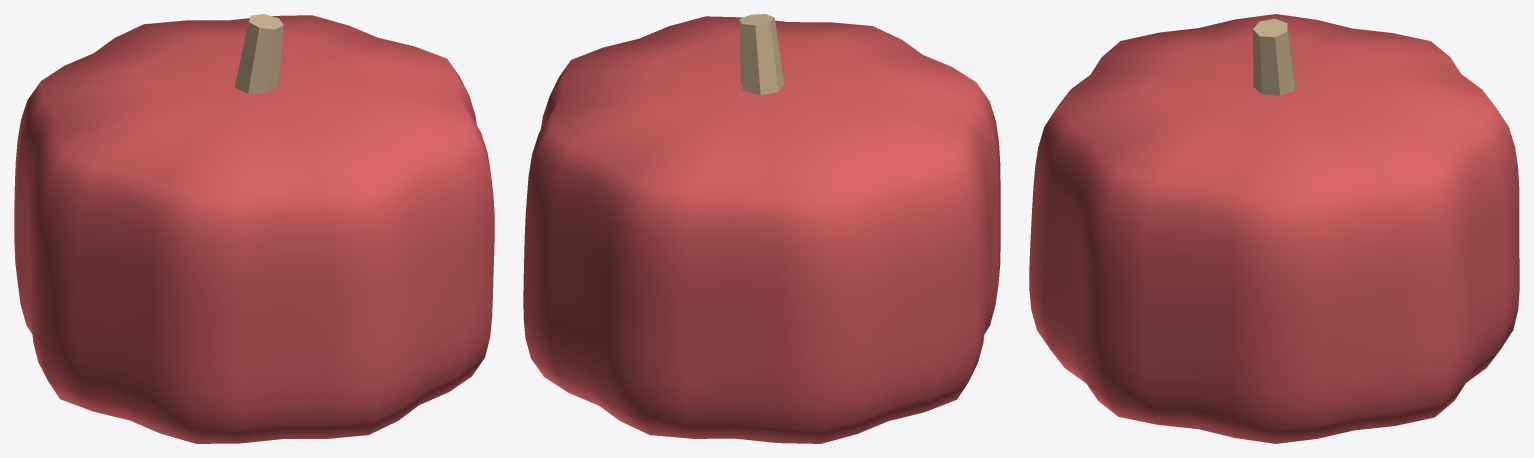
Rendered from beef-tomato.original.glb.
3 renders of one model, left to right at view 1: azimuth 30°, elevation 25°; view 2: azimuth 150°, elevation 25°; view 3: azimuth 270°, elevation 25°, orthographic.
Visible parts, largest first — view 1: beef-tomato; view 2: beef-tomato; view 3: beef-tomato.
Boxes of the visible parts, x1,y1,x2,y2 form: beef-tomato: [14, 14, 494, 443]; beef-tomato: [523, 14, 1000, 443]; beef-tomato: [1029, 14, 1519, 443].
Bounding box in the file's own units: 0.1005 × 0.0785 × 0.1.
